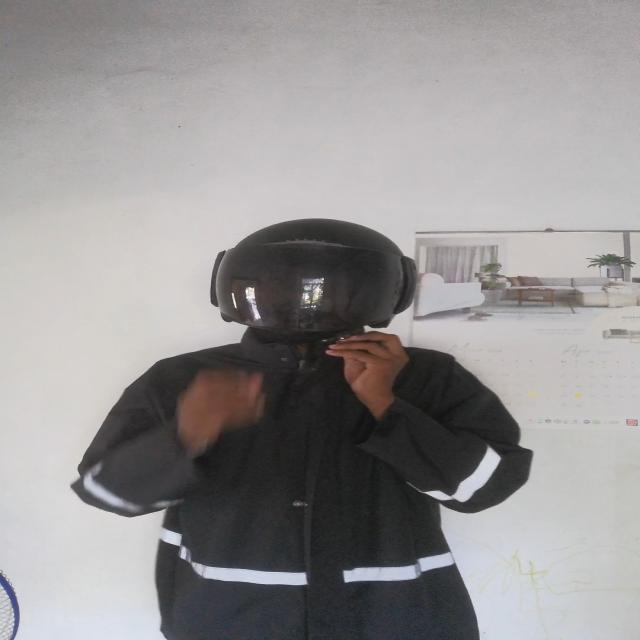Helmet_Wearer: (207, 212, 438, 362)
Jacket_Wearer: (68, 318, 533, 640)
Person: (88, 223, 536, 640)
